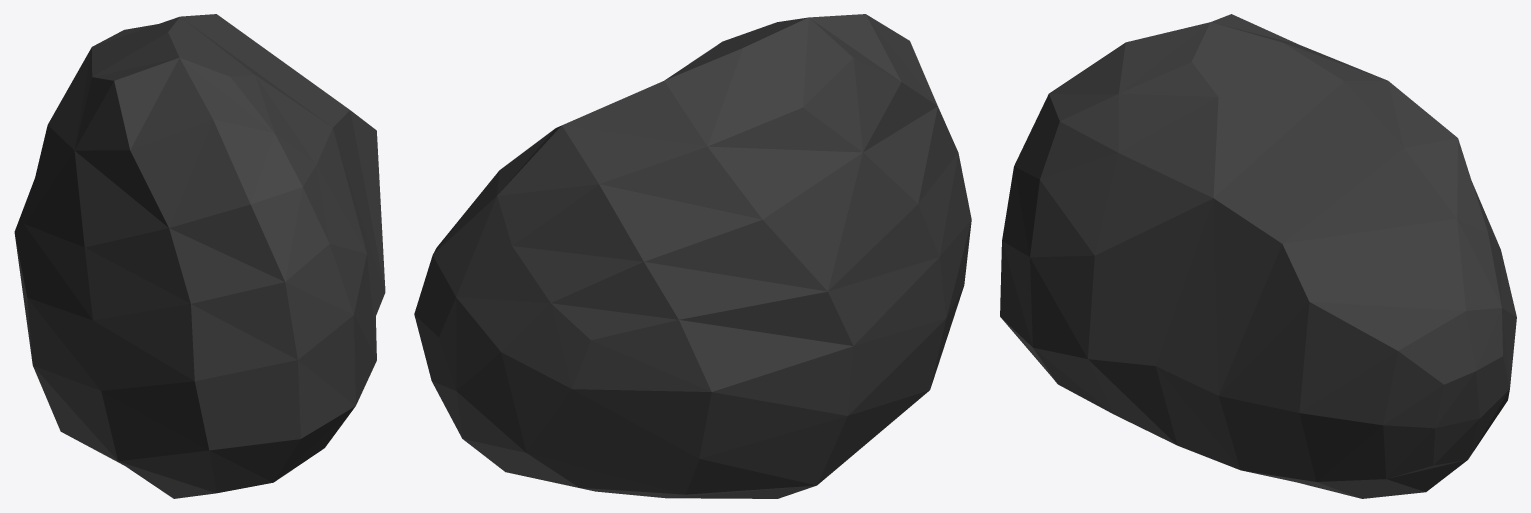
The model's file is RFL_carpal2.glb.
3 views of the same model, side by side, from view 1: azimuth 30°, elevation 25°; view 2: azimuth 150°, elevation 25°; view 3: azimuth 270°, elevation 25° (orthographic). The views are drawn at different scales.
Visible parts, largest first — view 1: RFL_carpal2; view 2: RFL_carpal2; view 3: RFL_carpal2.
Boxes of the visible parts, x1,y1,x2,y2 form: RFL_carpal2: [14, 14, 385, 498]; RFL_carpal2: [414, 14, 971, 498]; RFL_carpal2: [1000, 14, 1516, 498].
Size of the model in its own units: 3.88 by 4.4 by 4.91.
Materials: 1 (1 with a texture image).
